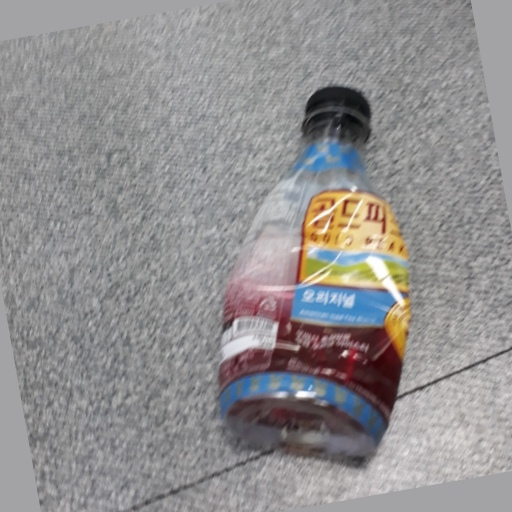Plastic_0: (218, 81, 413, 472)
